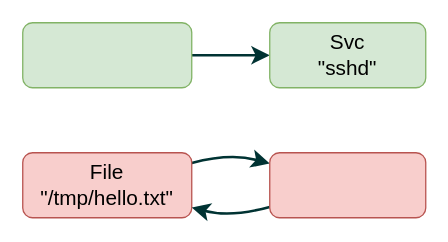
Image size: 448x242. Some labels were removed from this diagram. Each missing label, with the box of its shape:
File "/tmp/world.txt": (268, 151, 426, 218)
Pkg "openssh-server": (21, 21, 192, 88)
